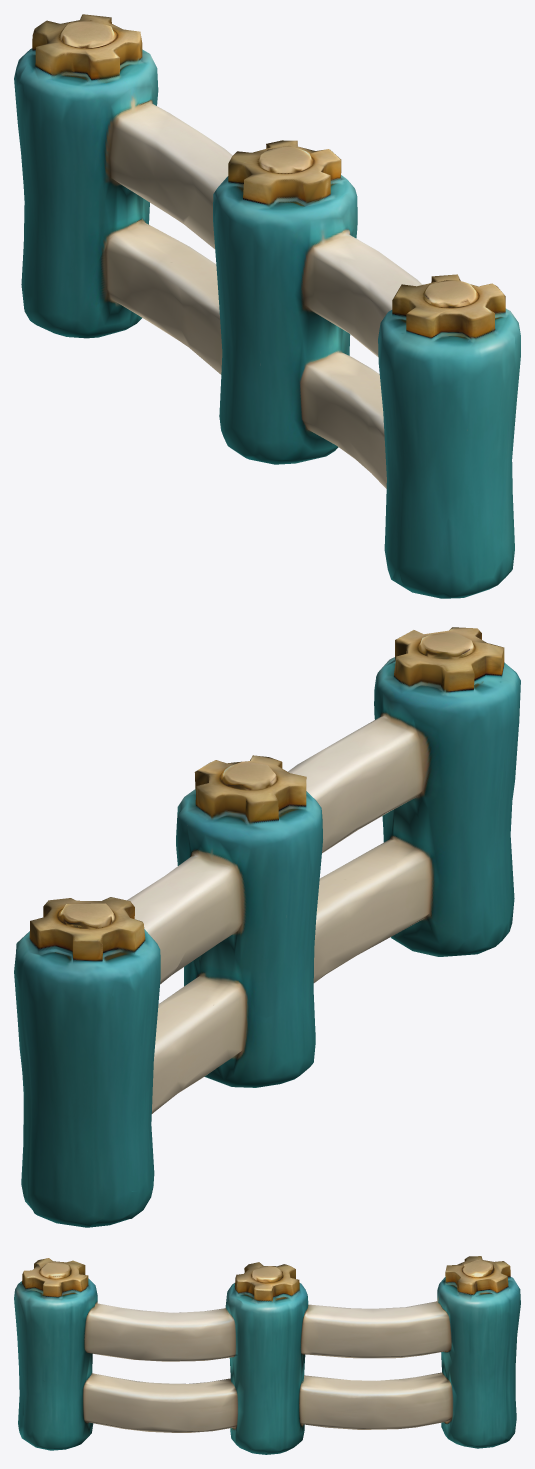
File: Kit_X_Fence_raw.glb
3 views of the same model, one above another, from view 1: azimuth 30°, elevation 25°; view 2: azimuth 150°, elevation 25°; view 3: azimuth 270°, elevation 25° (orthographic). The views are drawn at different scales.
Visible parts, largest first — view 1: tripo_node_802e8f24-e8c2-44ff-8be7-2c1432b6f7cc; view 2: tripo_node_802e8f24-e8c2-44ff-8be7-2c1432b6f7cc; view 3: tripo_node_802e8f24-e8c2-44ff-8be7-2c1432b6f7cc.
Part boxes in pixels (x1,y1,x2,y2): tripo_node_802e8f24-e8c2-44ff-8be7-2c1432b6f7cc: (14, 14, 520, 598); tripo_node_802e8f24-e8c2-44ff-8be7-2c1432b6f7cc: (14, 627, 520, 1227); tripo_node_802e8f24-e8c2-44ff-8be7-2c1432b6f7cc: (14, 1256, 520, 1454).
Size of the model in its own units: 0.1954 by 0.3712 by 1.
Materials: 1 (1 with a texture image).
